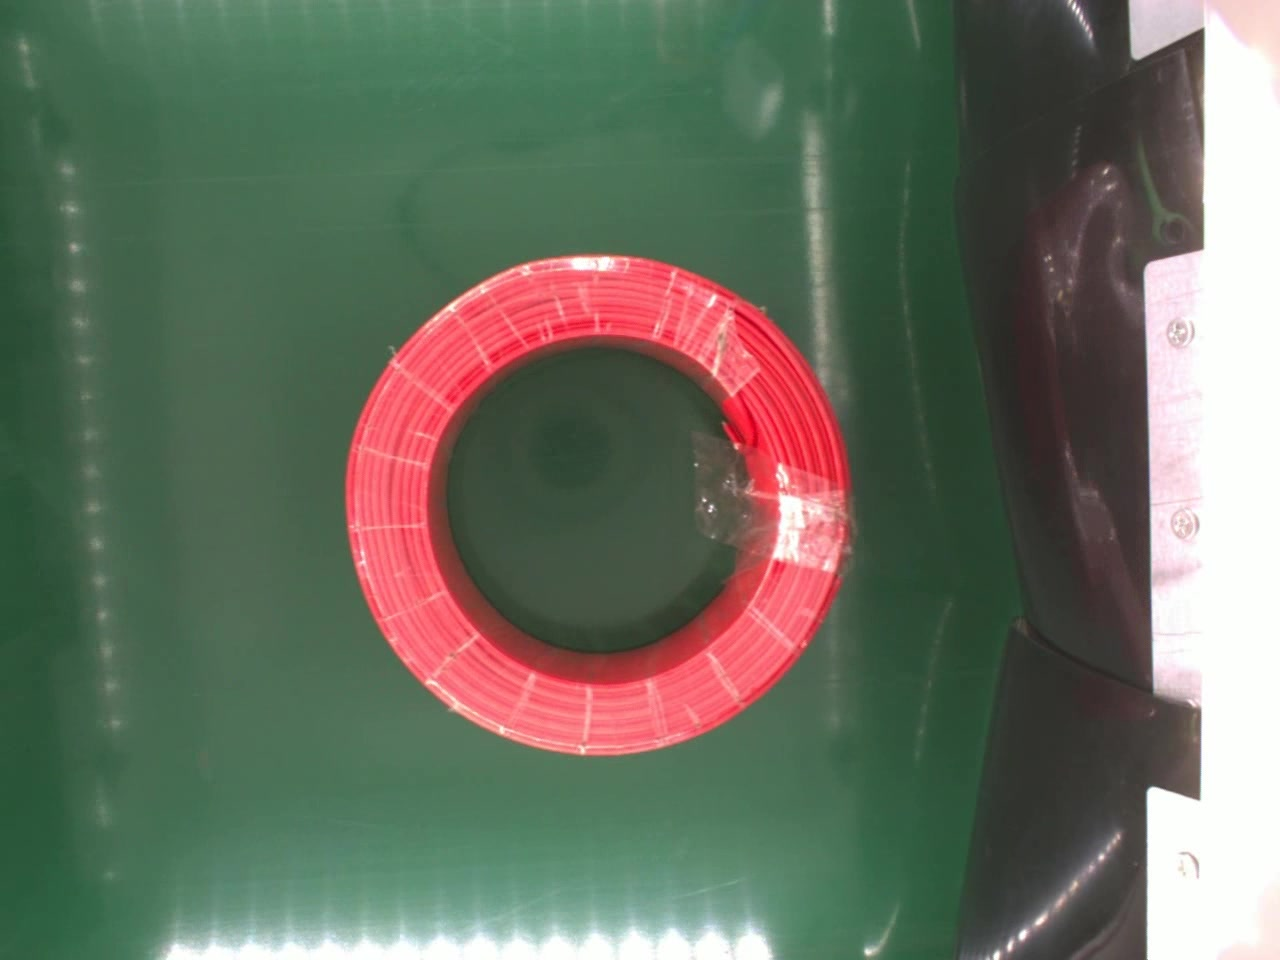red: (341, 246, 862, 769)
